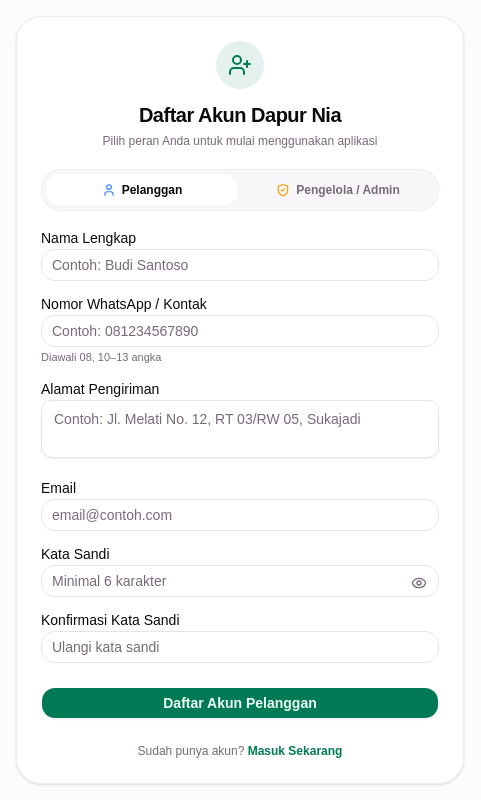
Test: RegisterPage Component › validates WhatsApp number format and passwords mismatch
This screenshot has width=481, height=800.
Type "Budi" into the field labelled "Nama Lengkap" at (240, 265), box [41, 249, 439, 281]
Type "09123456789" into the field labelled "Nomor WhatsApp / Kontak" at (240, 331), box [41, 315, 439, 347]
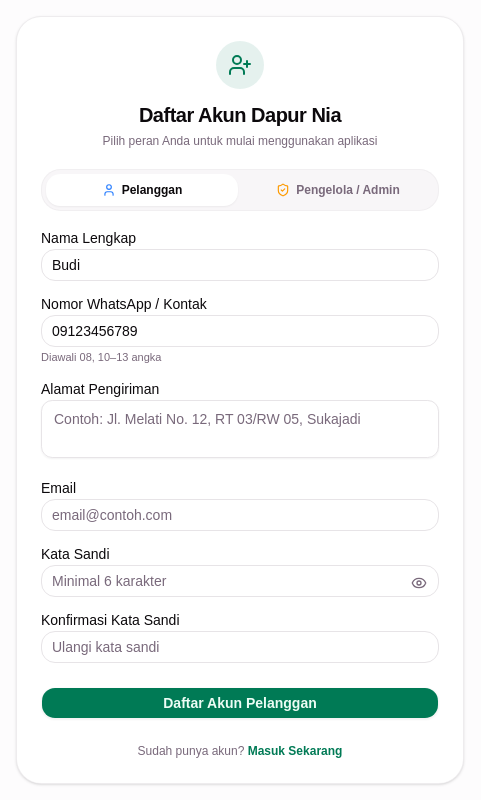
Type "Jl. Mawar" into the text box labelled "Alamat Pengiriman" at (240, 429), box [41, 400, 439, 458]
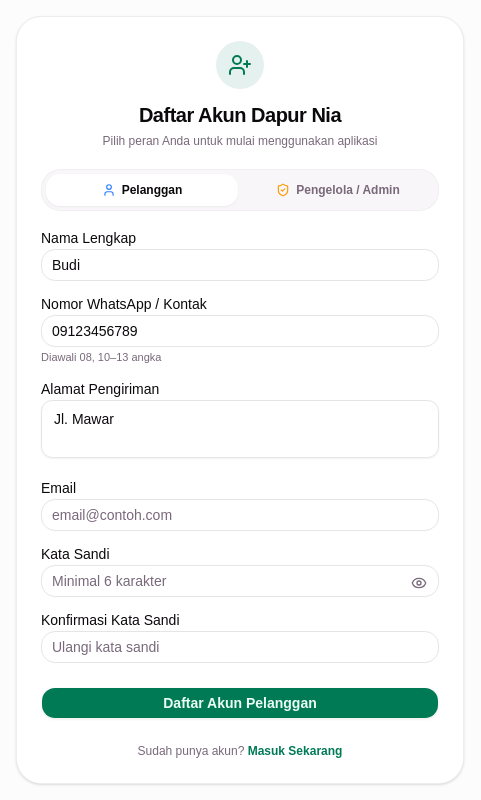
Type "budi@test.com" into the field labelled "Email" at (240, 515), box [41, 499, 439, 531]
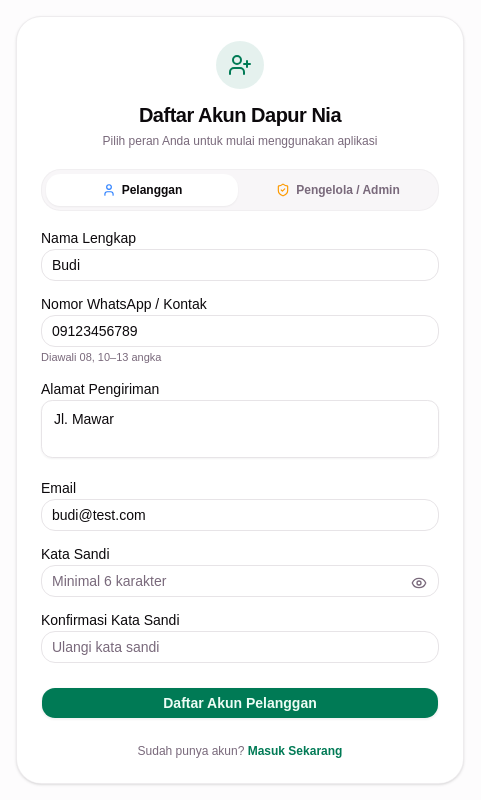
Type "secret123" into the password field labelled "Kata Sandi" at (240, 581), box [41, 565, 439, 597]
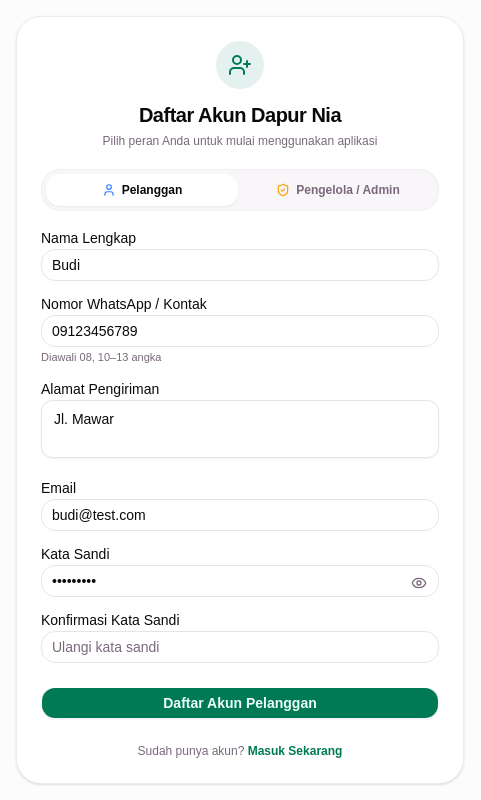
Type "different" into the password field labelled "Konfirmasi Kata Sandi" at (240, 647), box [41, 631, 439, 663]
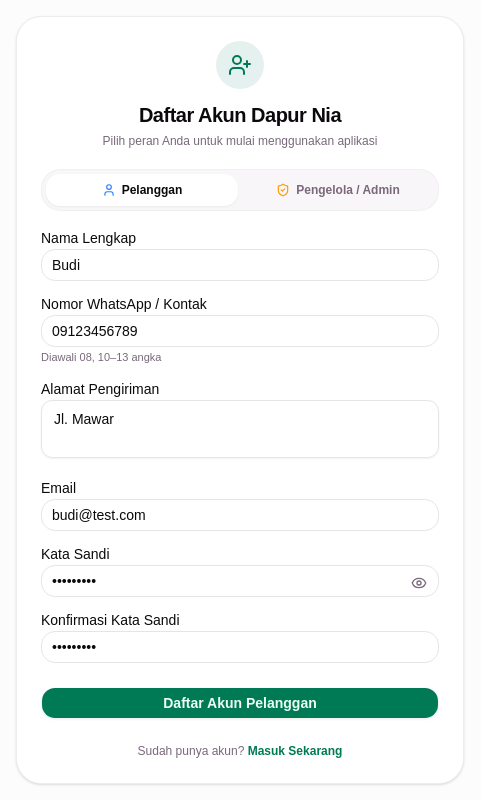
Click the button "Daftar Akun Pelanggan" at (240, 703), box [41, 687, 439, 719]
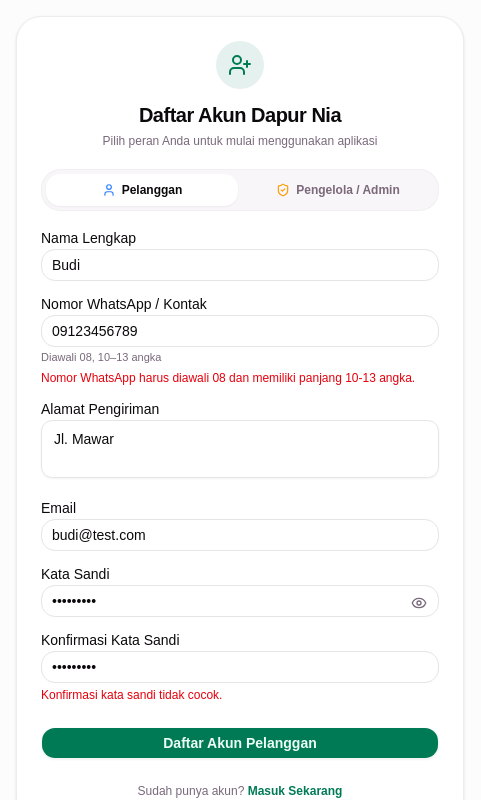
Expected: the text "Nomor WhatsApp harus diawali 08" is shown, [41, 370, 415, 384]
Expected: the text "Konfirmasi kata sandi tidak cocok." is shown, [41, 688, 222, 702]
